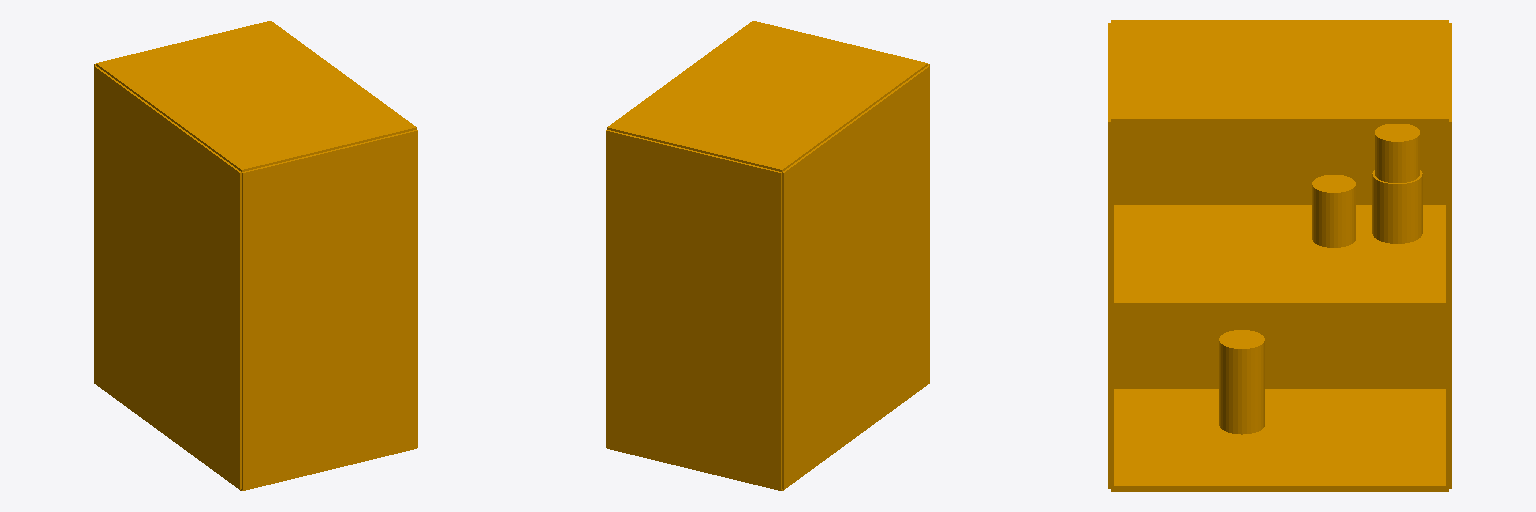
The robot description file, URDF, robot "syn_can_cabinet_2894":
<?xml version="1.0" ?>
<robot name="syn_can_cabinet_2894">
    <link concave="yes" name="base_link">
        <inertial>
            <origin rpy="0 0 0" xyz="0 0 0"/>
            <mass value="0.0"/>
            <inertia ixx="1e-08" ixy="0" ixz="0" iyy="1e-08" iyz="0" izz="1e-08"/>
        </inertial>
        <visual>
            <origin xyz="0 0 0" rpy="0 0 0" />
            <geometry>
                <mesh filename="syn_can_cabinet_2894.obj" scale="1.000000 1.000000 1.000000"/>
            </geometry>         
        </visual>

        <collision concave="yes">
            <origin xyz="0 0 0" rpy="0 0 0"/>
            <geometry>
                <mesh filename="syn_can_cabinet_2894.obj" scale="1.000000 1.000000 1.000000"/>
            </geometry>
        </collision>
    </link>
</robot>
    

--- Facts derived from the render (not from the file) ---
3 views of the same robot in one strip: view 1: azimuth 30°, elevation 25°; view 2: azimuth 150°, elevation 25°; view 3: azimuth 270°, elevation 25° (orthographic).
Robot: syn_can_cabinet_2894 — 1 links, 0 joints (none); root link base_link; default pose: all joints at 0.
Visible links, largest first — view 1: base_link; view 2: base_link; view 3: base_link.
Link boxes in pixels (left/top/right/bottom): base_link: left=94, top=21, right=417, bottom=490; base_link: left=606, top=21, right=929, bottom=490; base_link: left=1108, top=20, right=1451, bottom=491.
Size in the robot's own frame: 0.2193 by 0.3187 by 0.3801 metres.
1 mesh visuals loaded from 1 distinct referenced files (1 OBJ).
